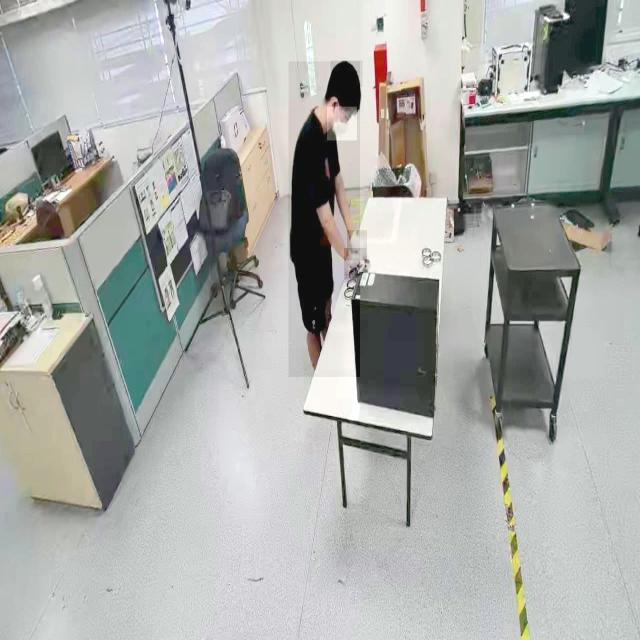face_mask: (327, 106, 357, 140)
hand_glove: (344, 248, 366, 276), (347, 230, 367, 260)
head_nohelmet: (330, 60, 362, 88)
person: (288, 61, 360, 378)
